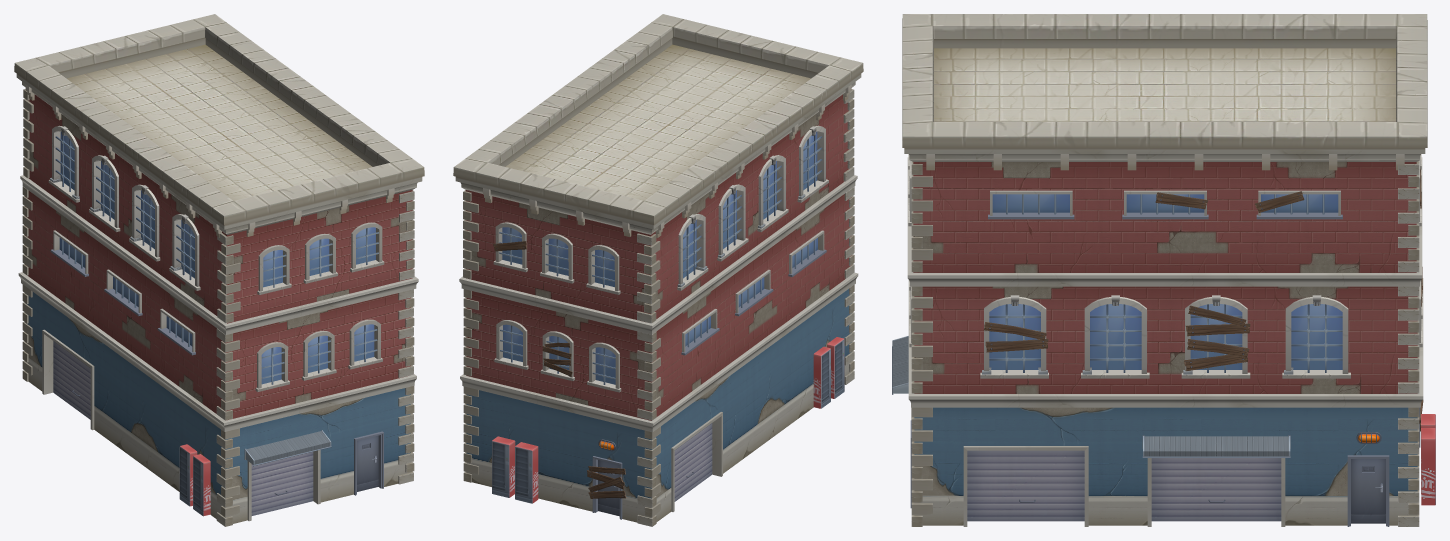
The model's file is Building_03_1.fbx.
3 views of the same model, side by side, from view 1: azimuth 30°, elevation 25°; view 2: azimuth 150°, elevation 25°; view 3: azimuth 270°, elevation 25° (orthographic). The views are drawn at different scales.
Parts seen in each view (by area): view 1: polySurface1710; view 2: polySurface1710; view 3: polySurface1710.
Part boxes in pixels (x1,y1,x2,y2): polySurface1710: (14, 14, 424, 526); polySurface1710: (453, 14, 863, 526); polySurface1710: (892, 14, 1435, 526).
Size of the model in its own units: 763 by 1104 by 1375.
